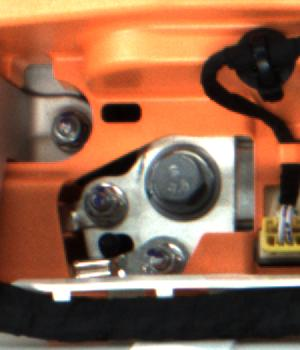nut_b: (142, 141, 219, 221)
screw_s: (50, 111, 88, 153), (83, 180, 126, 216), (137, 239, 178, 276)
